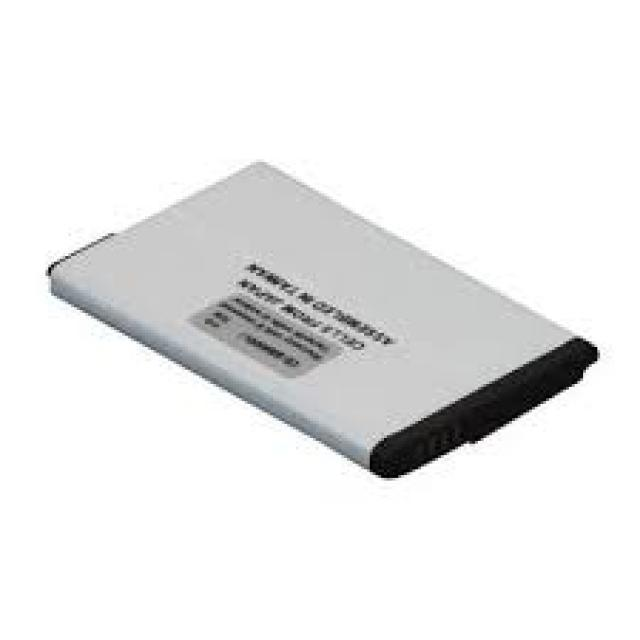battery: (47, 165, 600, 484)
